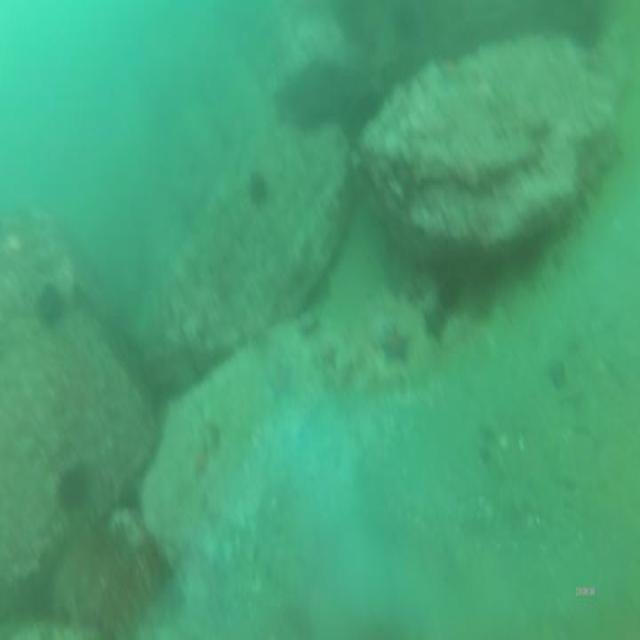echinus: (51, 460, 89, 513), (34, 278, 68, 332), (245, 172, 271, 207)
starfish: (378, 325, 409, 373), (420, 289, 448, 335)
